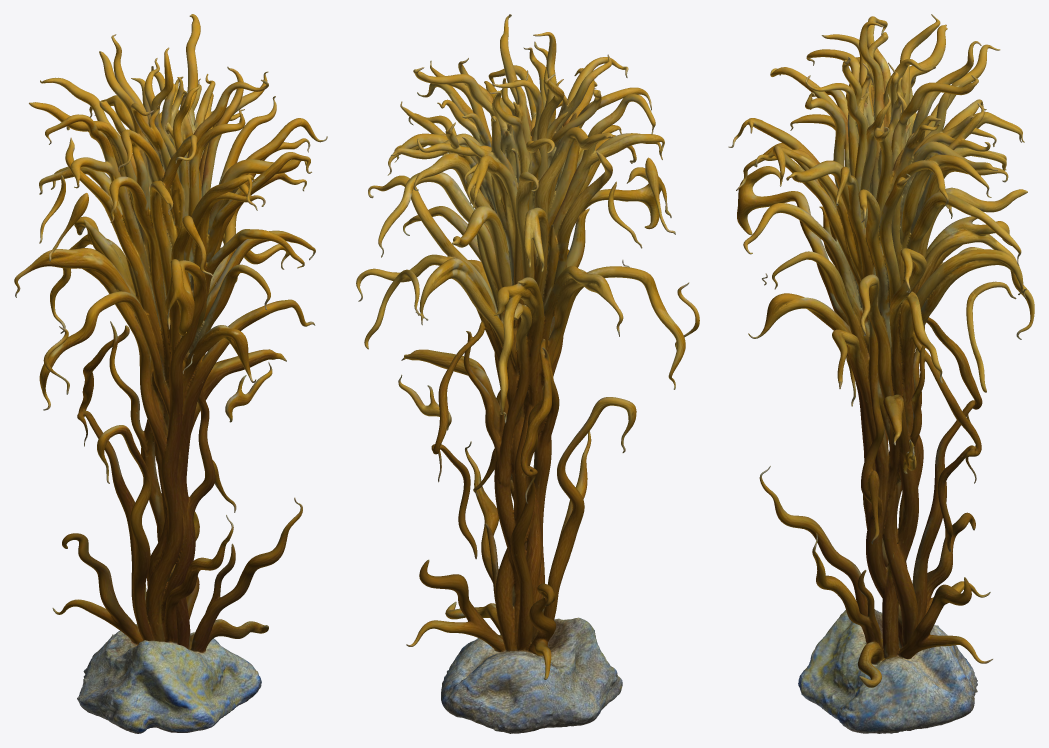
The model's file is tall_kelp.glb.
3 views of the same model, side by side, from view 1: azimuth 30°, elevation 25°; view 2: azimuth 150°, elevation 25°; view 3: azimuth 270°, elevation 25° (orthographic). The views are drawn at different scales.
Bounding box in the file's own units: 0.8923 × 1.9 × 0.7825.
1 material, 1 textured.
